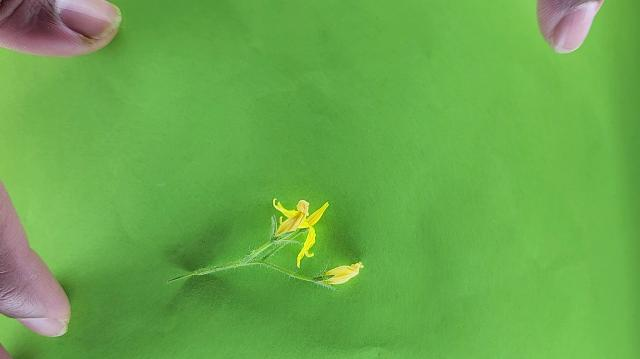Anthesis: (272, 197, 330, 268), (317, 262, 364, 286)
